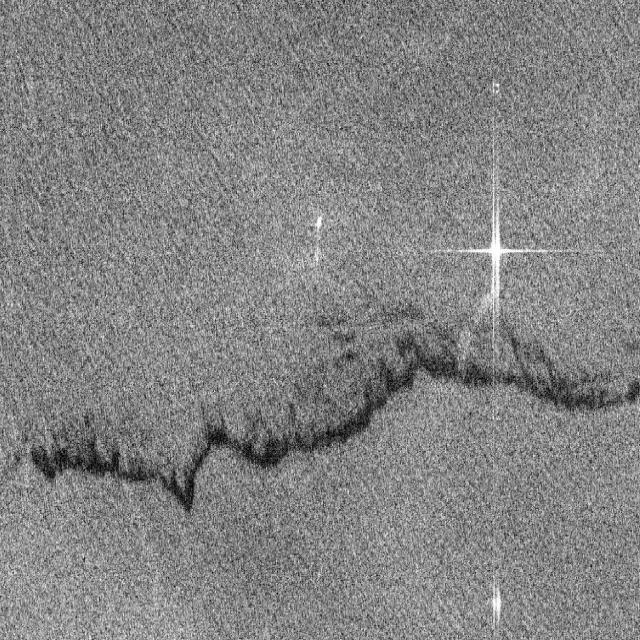look-alike: (198, 346, 422, 474), (425, 320, 639, 428), (24, 402, 190, 527)
ship: (466, 184, 524, 307)
